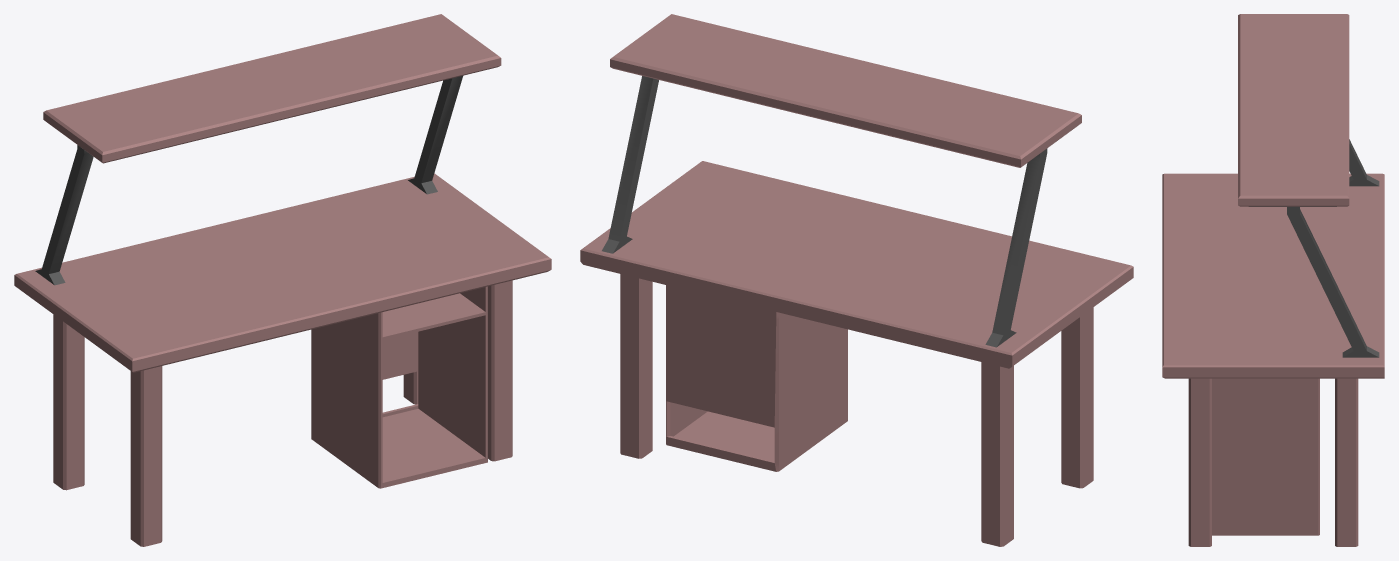
Rendered from max_desk_uv.fbx.
The picture shows the model from 3 angles, left to right: view 1: azimuth 30°, elevation 25°; view 2: azimuth 150°, elevation 25°; view 3: azimuth 270°, elevation 25°; orthographic projection. The views are drawn at different scales.
Parts seen in each view (by area): view 1: Desk_w_UV; view 2: Desk_w_UV; view 3: Desk_w_UV.
Part boxes in pixels (box(x1,y1,x2,y2)): Desk_w_UV: box(14, 14, 551, 546); Desk_w_UV: box(580, 14, 1133, 546); Desk_w_UV: box(1162, 14, 1384, 546).
Bounding box in the file's own units: 1.95 × 1.68 × 0.95.
